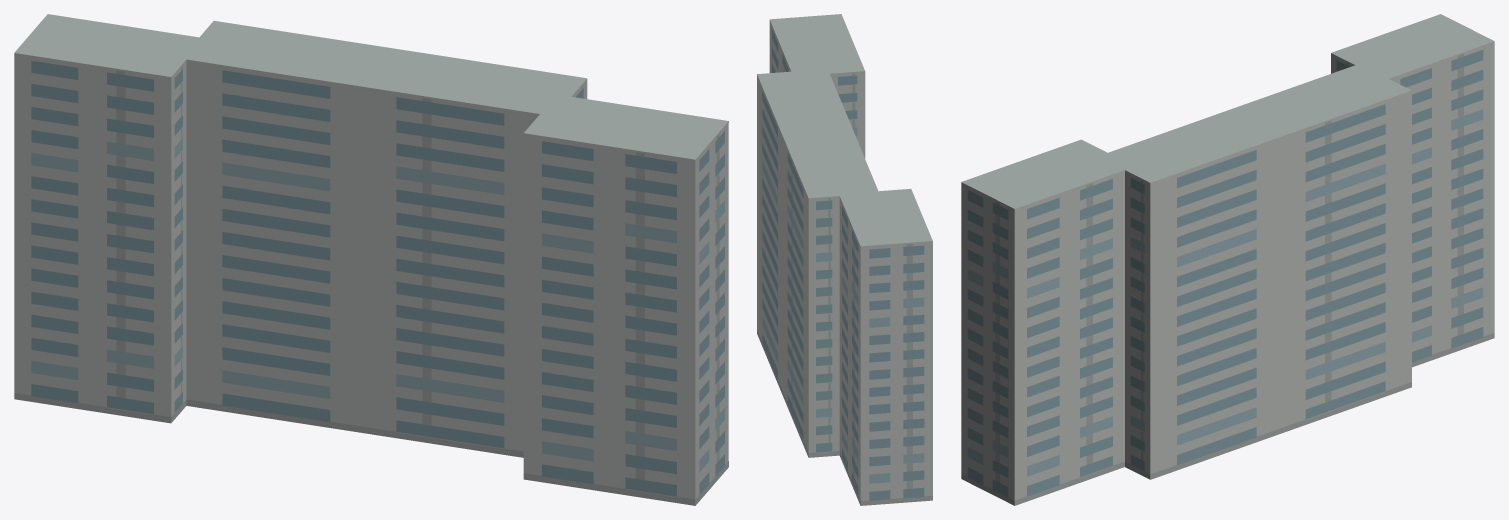
Rendered from residential-0cb94ac1-0592-4403-ab15-3ee08a5b7cdd.glb.
3 views of the same model, side by side, from view 1: azimuth 30°, elevation 25°; view 2: azimuth 150°, elevation 25°; view 3: azimuth 270°, elevation 25° (orthographic). The views are drawn at different scales.
Visible parts, largest first — view 1: residential-0cb94ac1-0592-4403-ab15-3ee08a5b7cdd.tmp; view 2: residential-0cb94ac1-0592-4403-ab15-3ee08a5b7cdd.tmp; view 3: residential-0cb94ac1-0592-4403-ab15-3ee08a5b7cdd.tmp.
Part boxes in pixels (x1,y1,x2,y2): residential-0cb94ac1-0592-4403-ab15-3ee08a5b7cdd.tmp: (14, 14, 728, 505); residential-0cb94ac1-0592-4403-ab15-3ee08a5b7cdd.tmp: (757, 14, 932, 505); residential-0cb94ac1-0592-4403-ab15-3ee08a5b7cdd.tmp: (961, 14, 1494, 505).
Size of the model in its own units: 64.46 by 45.75 by 74.52.
